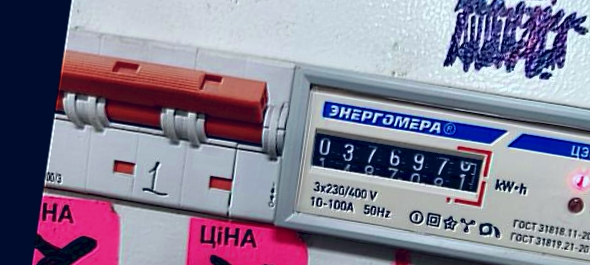0: (317, 136, 333, 157)
1: (456, 171, 469, 191)
3: (340, 141, 356, 163)
6: (387, 145, 403, 168)
7: (363, 142, 379, 165), (434, 154, 449, 178)
9: (411, 151, 426, 173)
screen: (300, 119, 497, 209)
